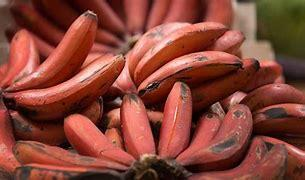banana: (2, 19, 305, 180)
